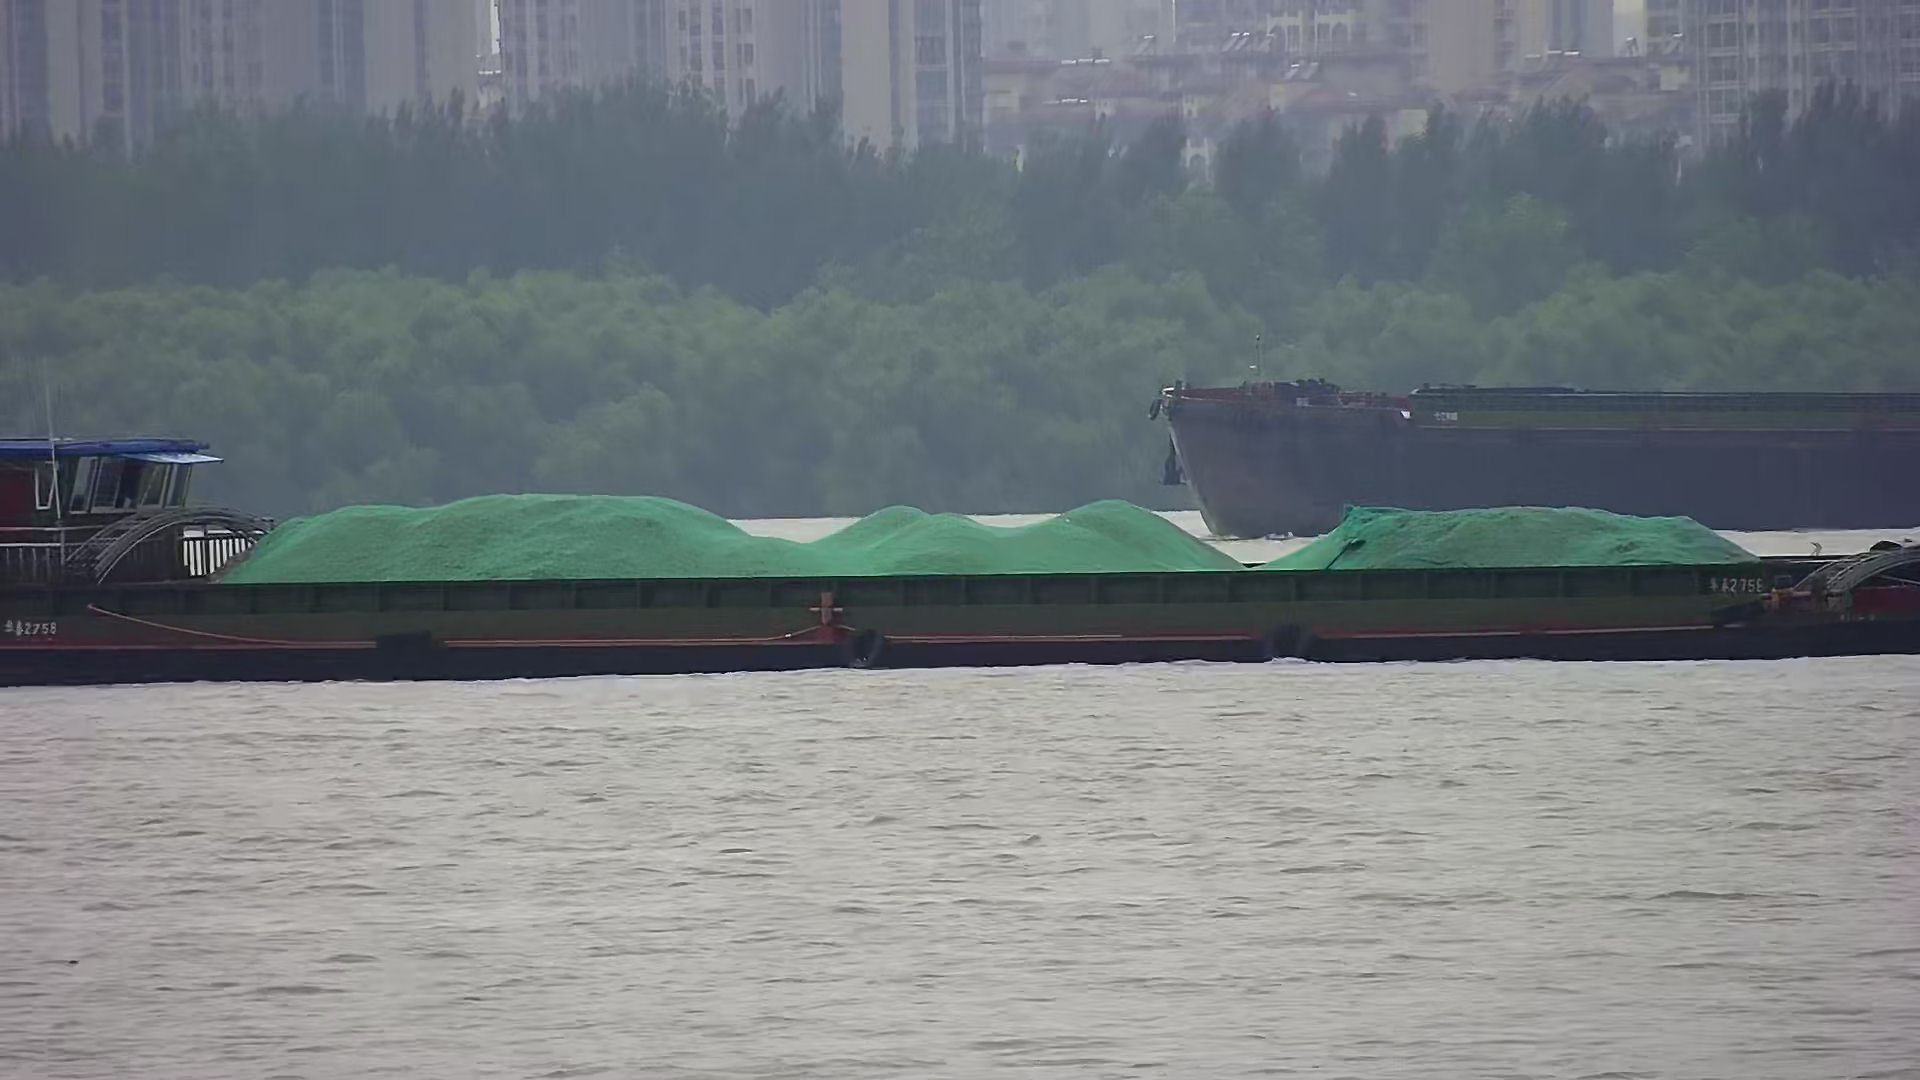ship: (3, 430, 1920, 684), (1153, 360, 1920, 538)
